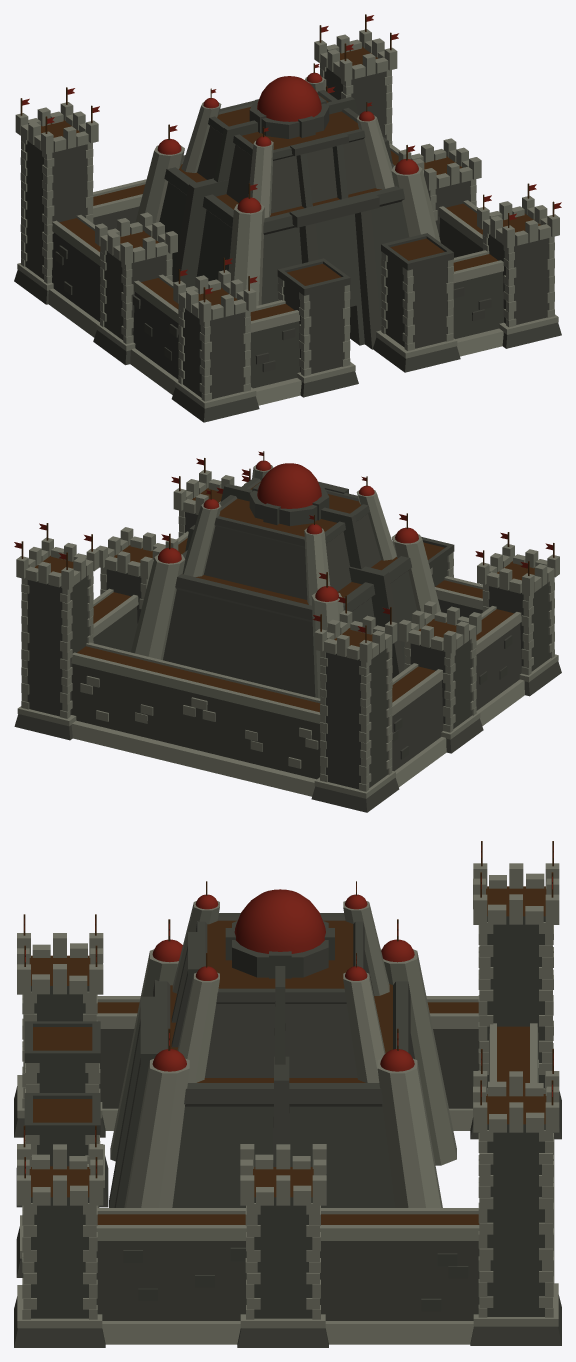
Rendered from Enemy_base_3.FBX.
3 renders of one model, top to bottom at view 1: azimuth 30°, elevation 25°; view 2: azimuth 150°, elevation 25°; view 3: azimuth 270°, elevation 25°, orthographic. The views are drawn at different scales.
Parts seen in each view (by area): view 1: Enemy_base_3; view 2: Enemy_base_3; view 3: Enemy_base_3.
Part boxes in pixels (<box>): Enemy_base_3: <box>14,14,561,422</box>; Enemy_base_3: <box>14,451,561,812</box>; Enemy_base_3: <box>14,841,561,1347</box>.
Bounding box in the file's own units: 2.13 × 1.35 × 1.96.
